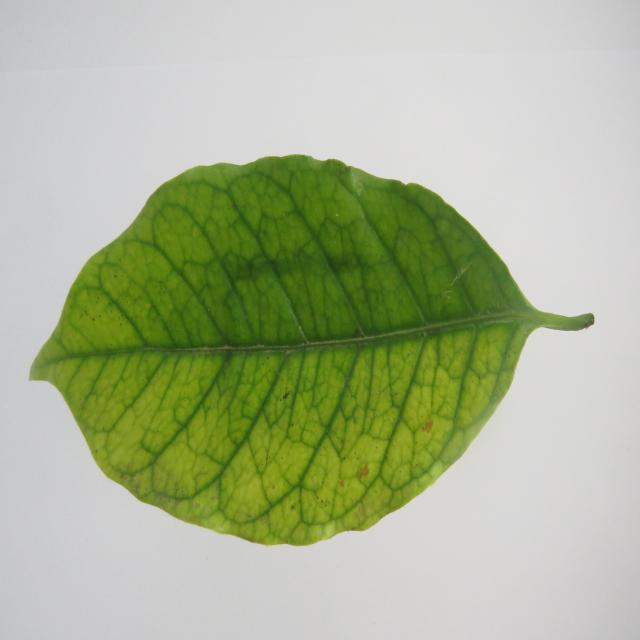DeficienciaNutricional-Hierro: (29, 154, 594, 541)
